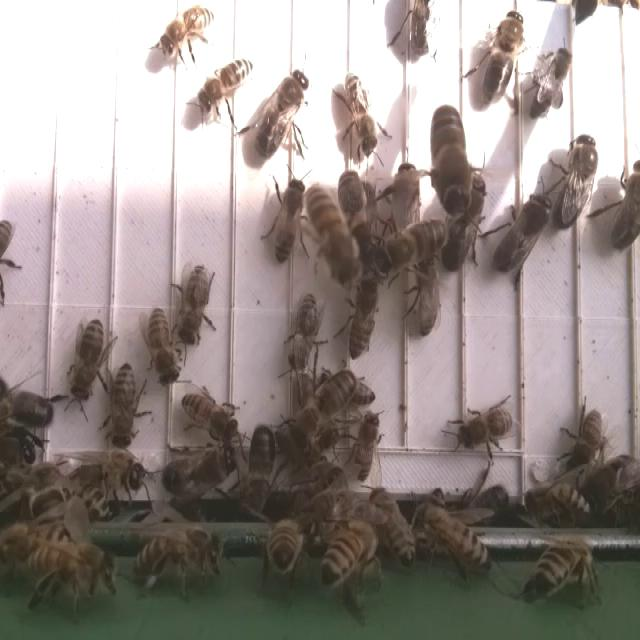Drone: (288, 364, 358, 446), (251, 66, 310, 162), (428, 104, 474, 220), (488, 192, 550, 276), (438, 174, 488, 276), (478, 7, 526, 109), (552, 131, 600, 232), (156, 444, 237, 499), (374, 216, 449, 275), (239, 421, 281, 522), (608, 157, 640, 257)
Worker: (306, 182, 358, 283), (66, 317, 107, 408), (178, 386, 238, 447), (142, 304, 183, 390), (197, 54, 254, 115), (342, 70, 380, 160), (178, 258, 214, 352), (107, 358, 142, 451), (453, 402, 515, 454), (286, 289, 323, 376), (528, 44, 569, 122), (344, 278, 381, 362), (159, 4, 215, 59), (566, 402, 606, 479), (271, 177, 304, 269), (407, 259, 443, 338), (351, 406, 384, 486)
